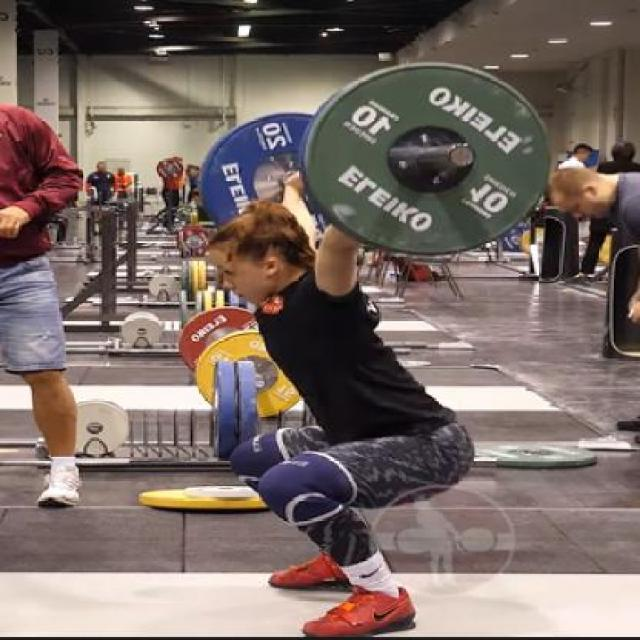Barbell: (442, 142, 480, 170)
